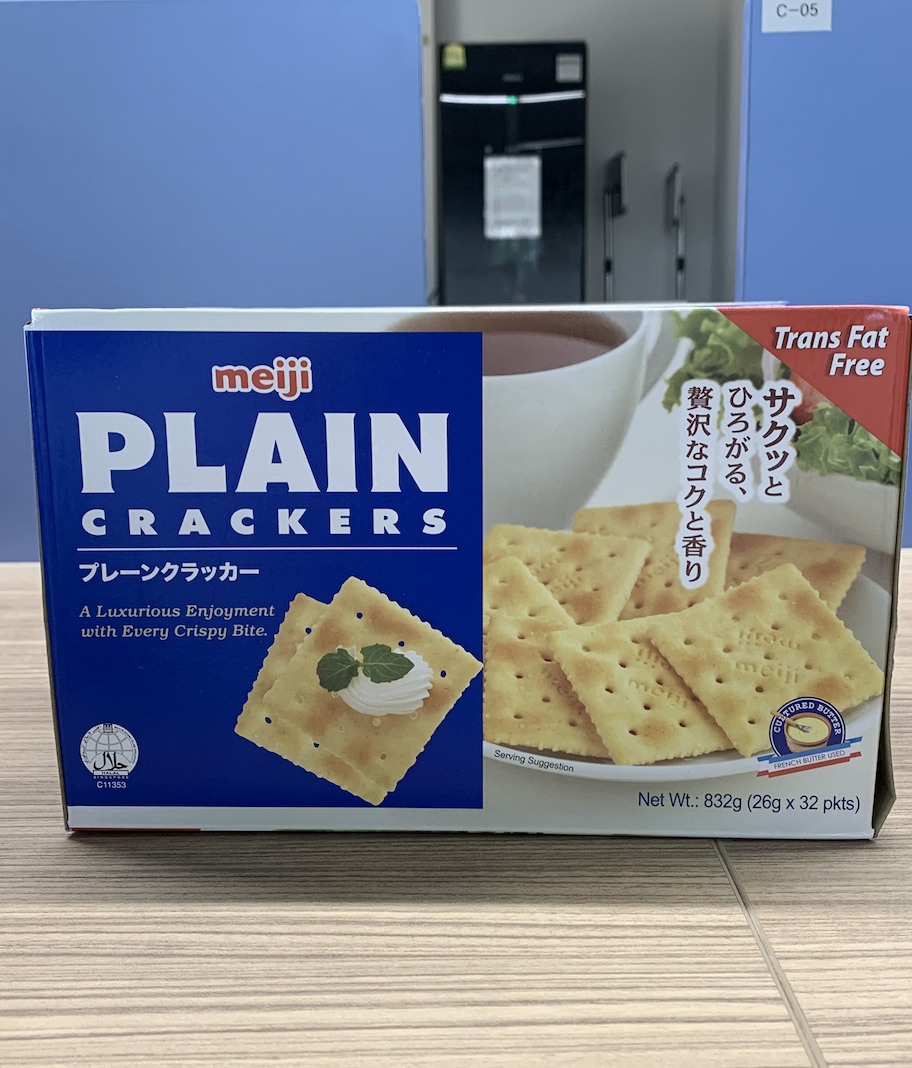crackers_850g: (61, 322, 886, 822)
